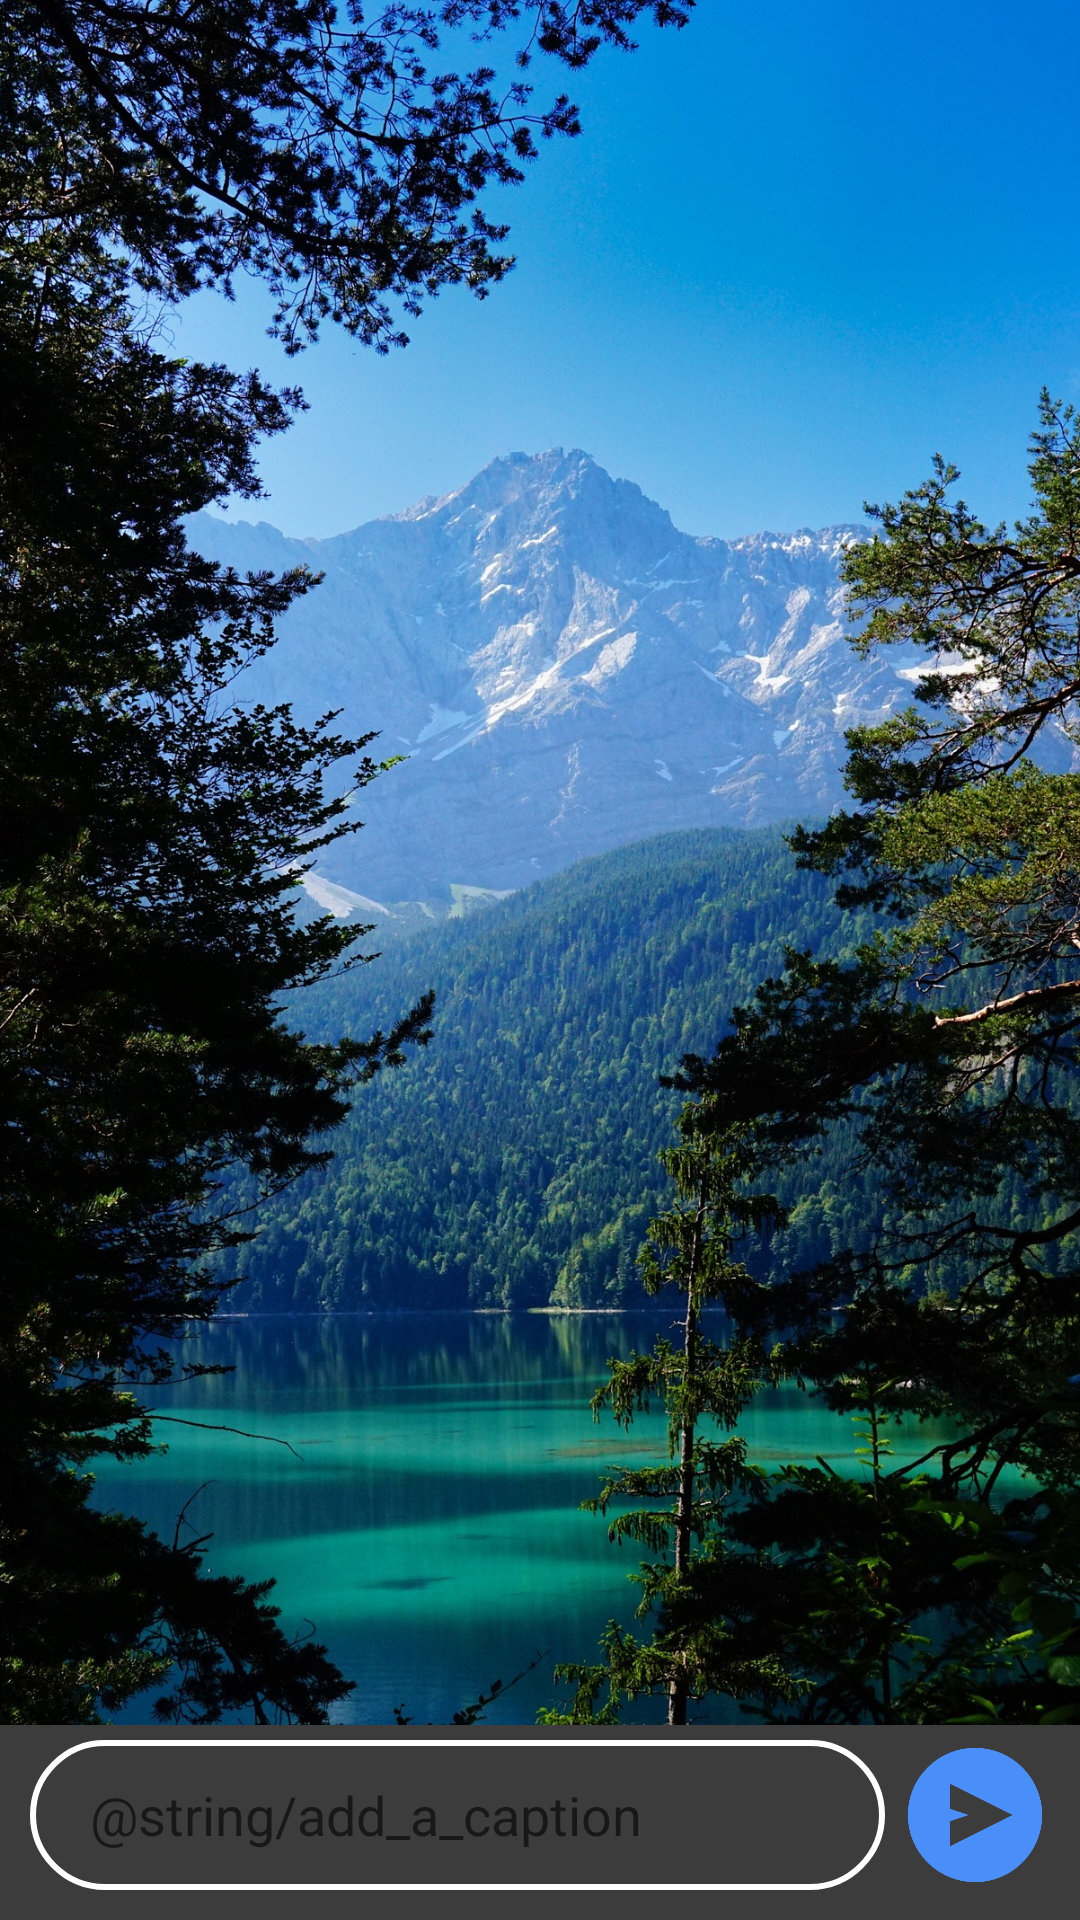

Icons on this 1080 × 1920 Android screen, each with its box as (left=x1, top=y1, right=x2, bottom=y2):
send: (left=908, top=1748, right=1042, bottom=1882)
